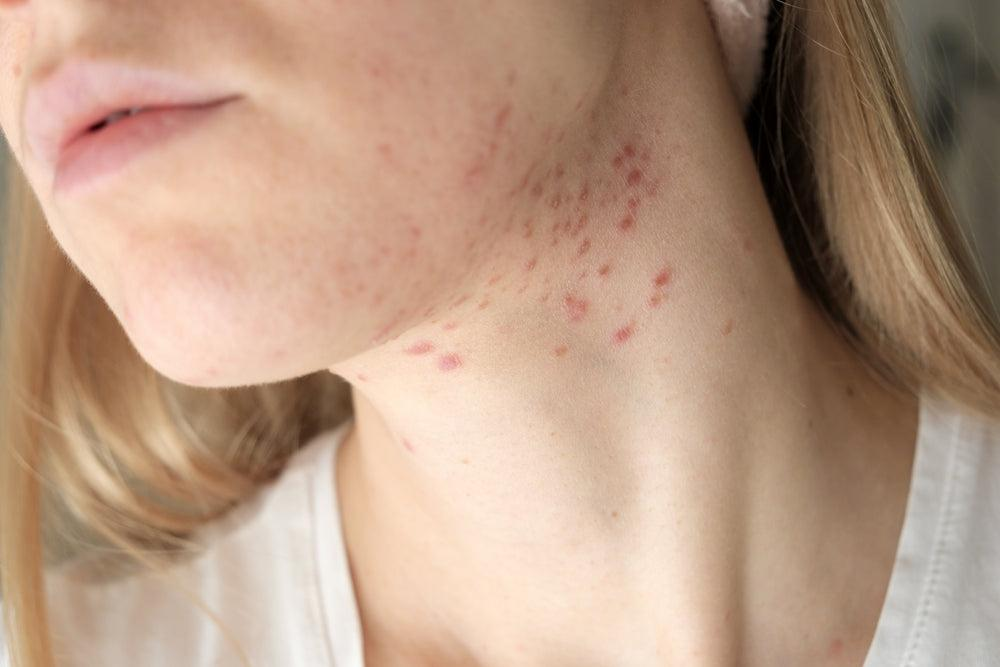Acne: (318, 53, 714, 394)
